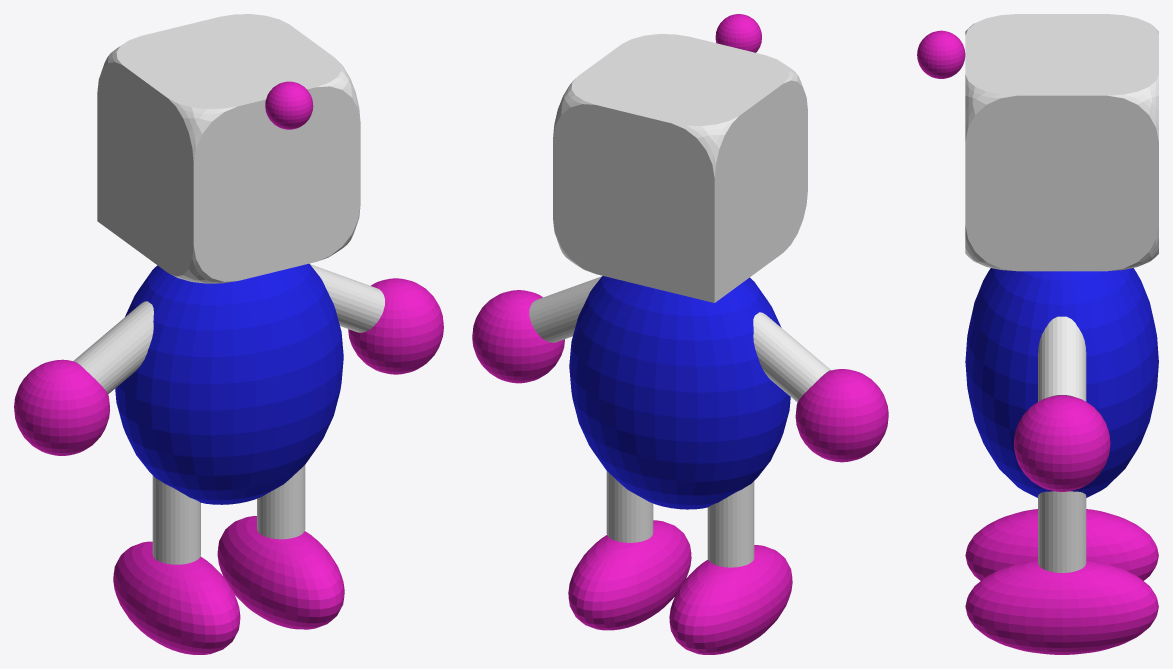
File: player.fbx
3 views of the same model, side by side, from view 1: azimuth 30°, elevation 25°; view 2: azimuth 150°, elevation 25°; view 3: azimuth 270°, elevation 25° (orthographic). The views are drawn at different scales.
Visible parts, largest first — view 1: Head, Body, RightFoot, LeftFoot, RightHand, LeftHand, RightArm, RightLeg, LeftLeg, LeftArm, Chonmage; view 2: Head, Body, LeftFoot, RightFoot, RightHand, LeftHand, RightArm, RightLeg, LeftLeg, LeftArm, Chonmage; view 3: Head, Body, LeftFoot, LeftHand, RightFoot, LeftLeg, LeftArm, Chonmage.
Part boxes in pixels (x1,y1,x2,y2): Head: (97,14,360,283); Body: (115,263,343,504); RightFoot: (113,541,240,654); LeftFoot: (217,516,344,629); RightHand: (14,359,109,455); LeftHand: (348,278,443,374); RightArm: (73,301,153,394); RightLeg: (152,475,200,564); LeftLeg: (257,465,305,539); LeftArm: (310,264,384,332); Chonmage: (265,81,313,129); Head: (553,34,807,302); Body: (569,276,790,509); LeftFoot: (568,520,691,630); RightFoot: (669,545,792,654); RightHand: (795,369,888,462); LeftHand: (472,290,564,383); RightArm: (753,312,831,402); RightLeg: (707,481,754,567); LeftLeg: (606,471,653,542); LeftArm: (529,276,601,342); Chonmage: (715,14,761,52); Head: (965,14,1158,271); Body: (965,268,1158,497); LeftFoot: (965,560,1158,654); LeftHand: (1013,395,1110,491); RightFoot: (965,509,1158,580); LeftLeg: (1038,491,1086,572); LeftArm: (1038,316,1086,401); Chonmage: (917,30,965,78).
Bounding box in the file's own units: 200 × 270 × 100.
